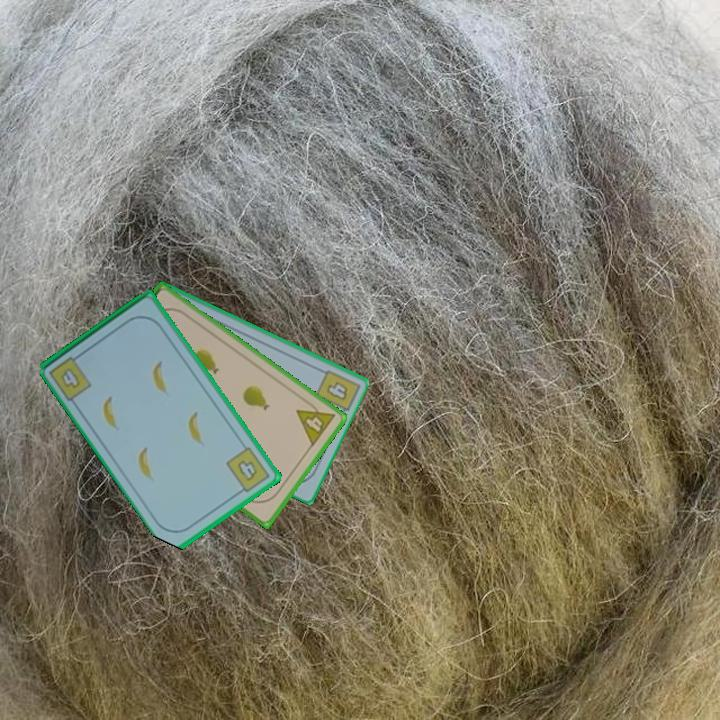4b: (222, 443, 273, 497), (45, 349, 95, 404), (323, 378, 351, 403)
4p: (293, 395, 338, 449)
